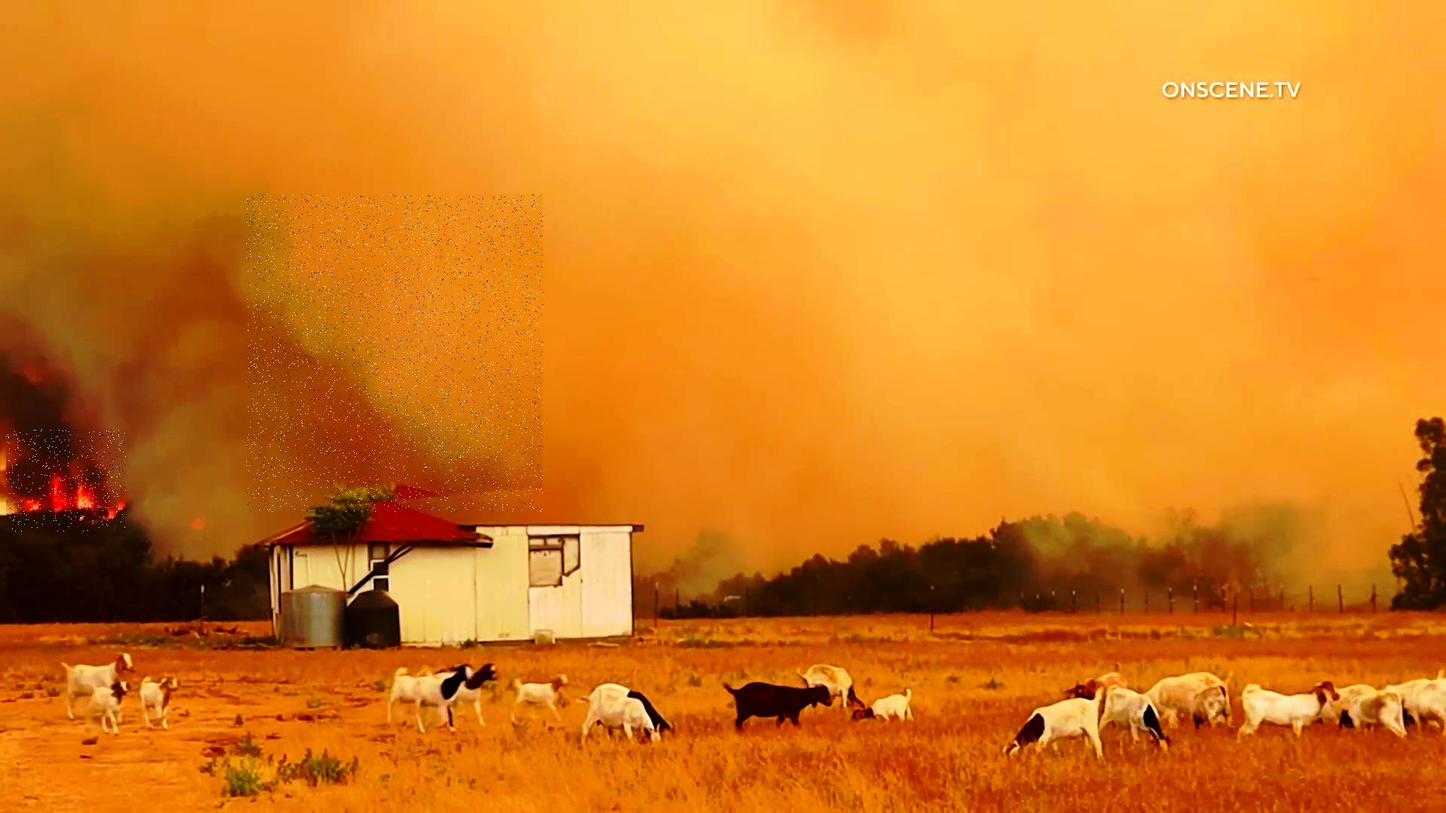fire: (6, 429, 126, 532)
smoke: (246, 194, 543, 512)
